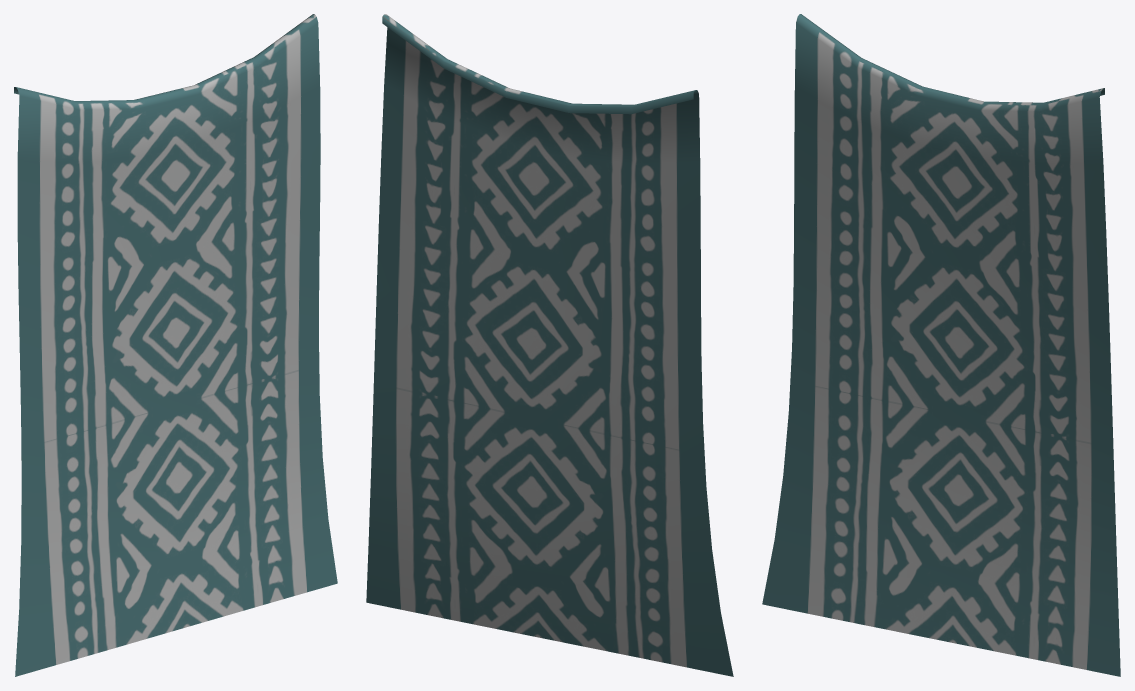
File: SM_flag_03.fbx
The picture shows the model from 3 angles, left to right: view 1: azimuth 30°, elevation 25°; view 2: azimuth 150°, elevation 25°; view 3: azimuth 330°, elevation 25°; orthographic projection. The views are drawn at different scales.
Visible parts, largest first — view 1: flag_03; view 2: flag_03; view 3: flag_03.
Part boxes in pixels (left/top/right/bottom): flag_03: left=14, top=14, right=337, bottom=676; flag_03: left=366, top=14, right=733, bottom=676; flag_03: left=762, top=14, right=1120, bottom=676.
Bounding box in the file's own units: 165 × 267 × 17.71.
